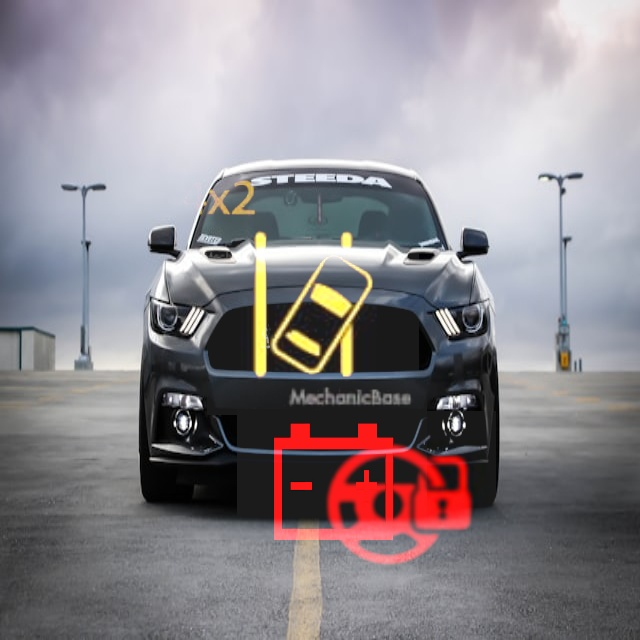symbol: (207, 203, 419, 415), (305, 411, 496, 602), (237, 385, 427, 575), (149, 130, 287, 268)
